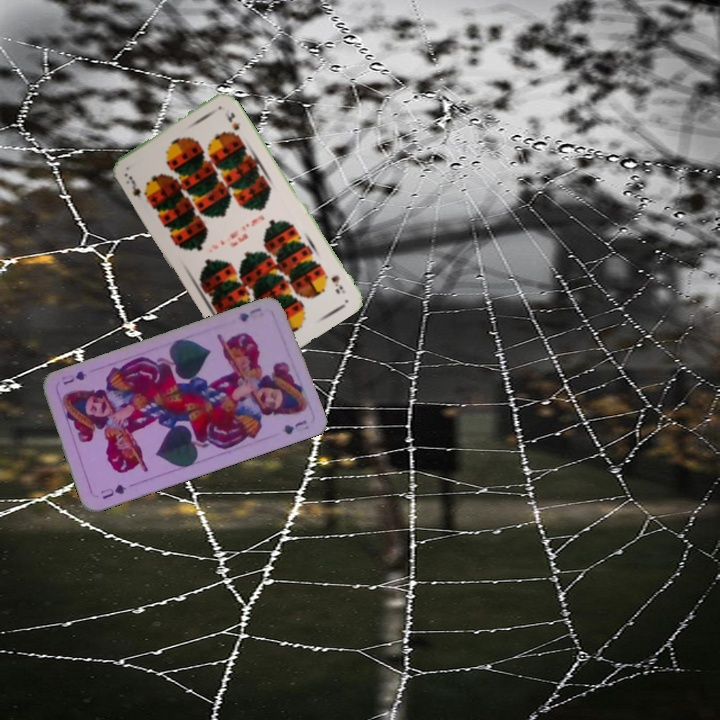GU: (96, 480, 129, 501), (234, 303, 264, 324)
S9: (124, 172, 143, 200), (327, 271, 348, 296)
